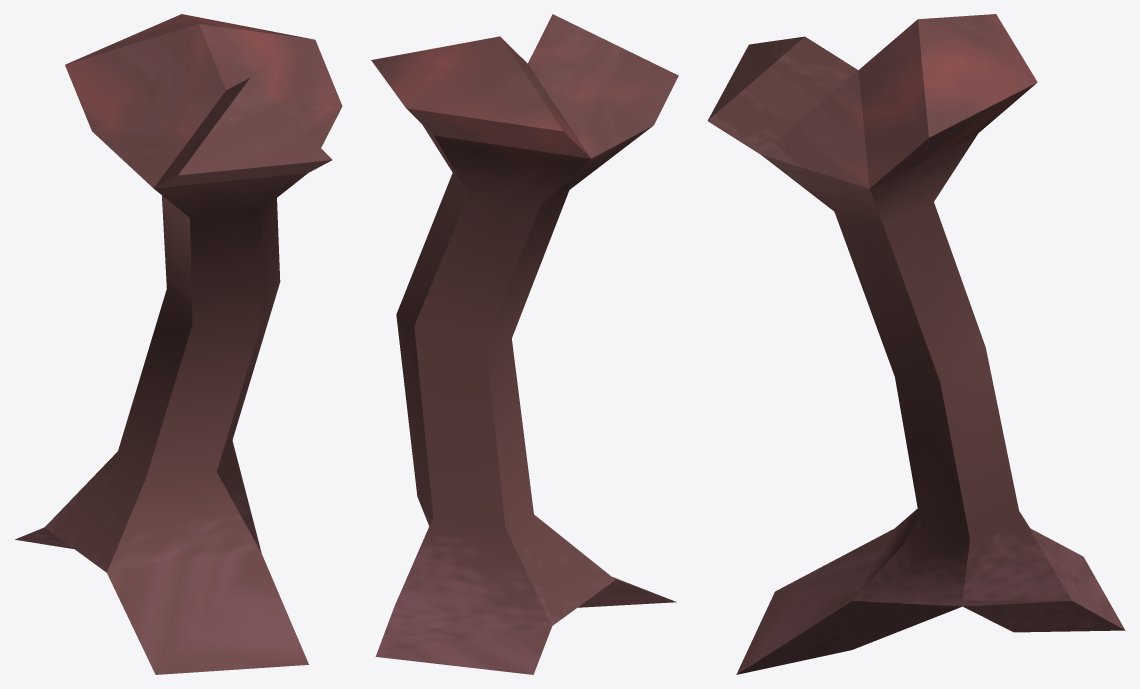
The model's file is Tree_One.fbx.
3 views of the same model, side by side, from view 1: azimuth 30°, elevation 25°; view 2: azimuth 150°, elevation 25°; view 3: azimuth 270°, elevation 25° (orthographic). The views are drawn at different scales.
Visible parts, largest first — view 1: pCylinder1; view 2: pCylinder1; view 3: pCylinder1.
Boxes of the visible parts, x1=… form: pCylinder1: x1=15, y1=14, x2=342, y2=674; pCylinder1: x1=371, y1=14, x2=678, y2=674; pCylinder1: x1=707, y1=14, x2=1125, y2=674.
Size of the model in its own units: 0.7555 by 1.84 by 1.09.
Materials: 1 (1 with a texture image).
